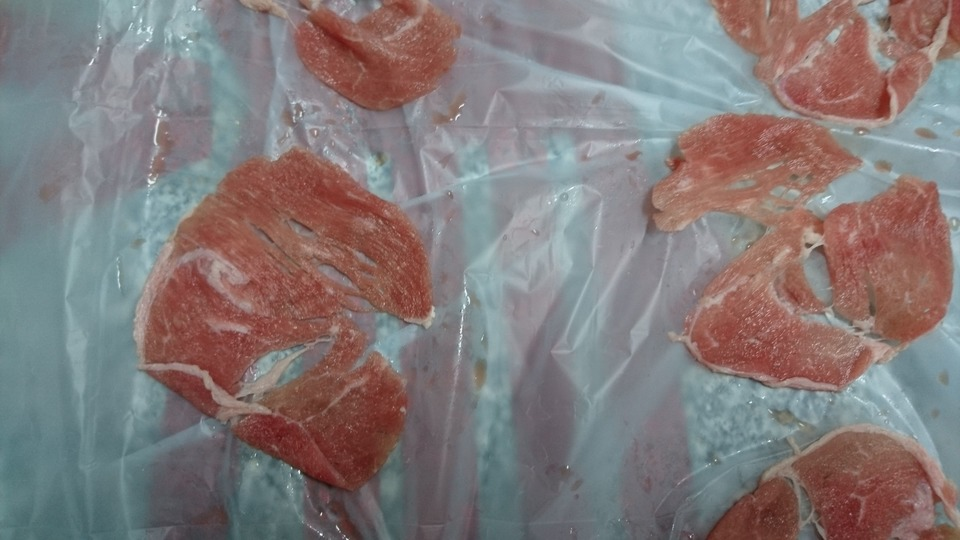restructured meat: (136, 144, 409, 478), (651, 114, 950, 398), (710, 4, 946, 120), (714, 435, 958, 539), (285, 13, 475, 107)
